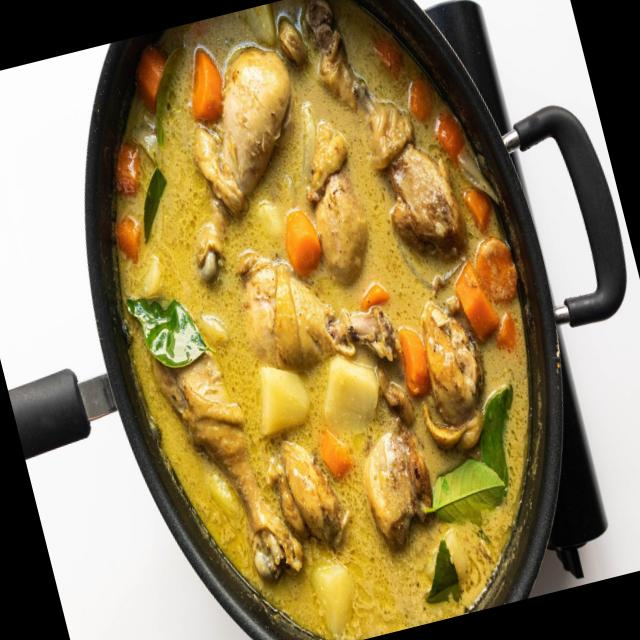chicken: (100, 20, 553, 640)
